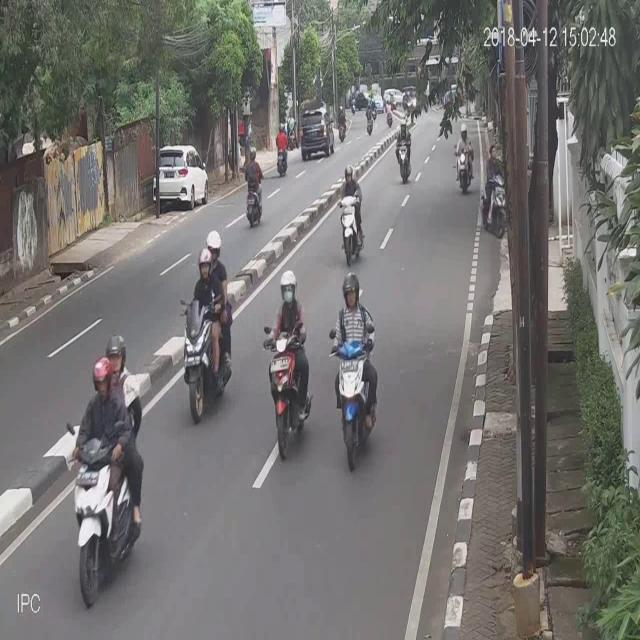bus: (70, 330, 148, 612), (177, 229, 236, 423), (261, 263, 315, 462), (330, 268, 380, 471), (337, 157, 365, 267), (480, 137, 508, 235), (243, 143, 264, 229), (393, 115, 415, 185), (454, 118, 474, 191), (274, 118, 288, 176)
motorcycle: (152, 140, 210, 213), (296, 99, 336, 160)
